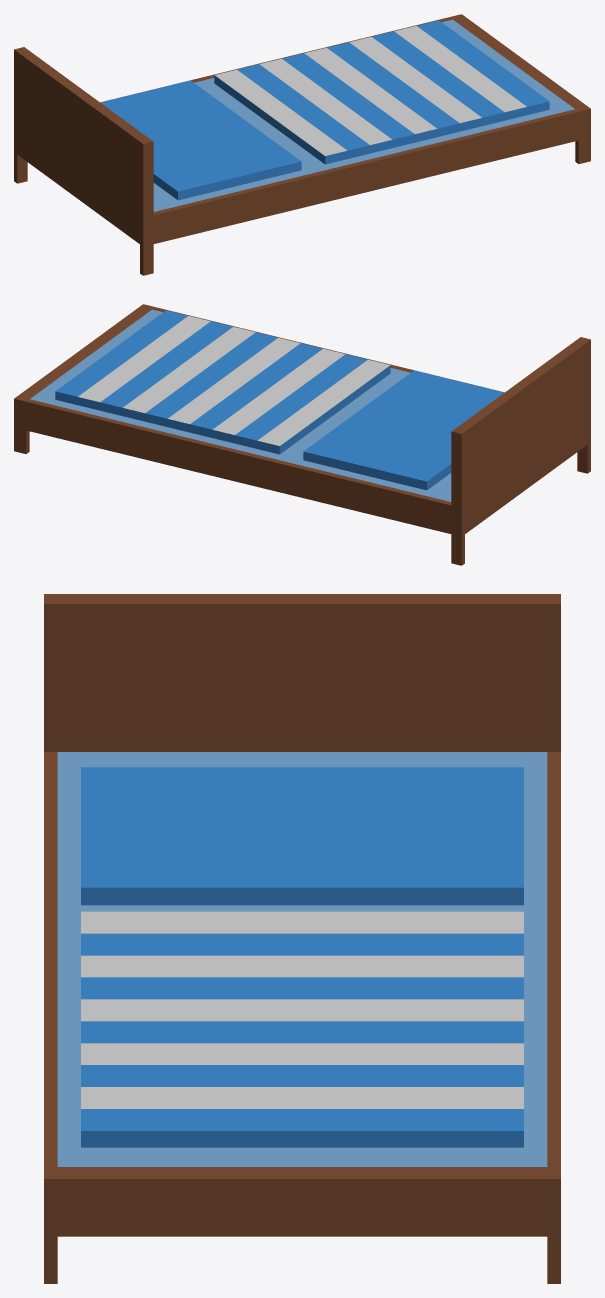
Rendered from Einzelbett.fbx.
3 renders of one model, top to bottom at view 1: azimuth 30°, elevation 25°; view 2: azimuth 150°, elevation 25°; view 3: azimuth 270°, elevation 25°, orthographic. The views are drawn at different scales.
Parts seen in each view (by area): view 1: Cube.001; view 2: Cube.001; view 3: Cube.001.
Part boxes in pixels (box(x1,y1,x2,y2)): Cube.001: box(14, 14, 590, 275); Cube.001: box(14, 304, 590, 565); Cube.001: box(44, 594, 560, 1283).
Size of the model in its own units: 160 by 45 by 80.
